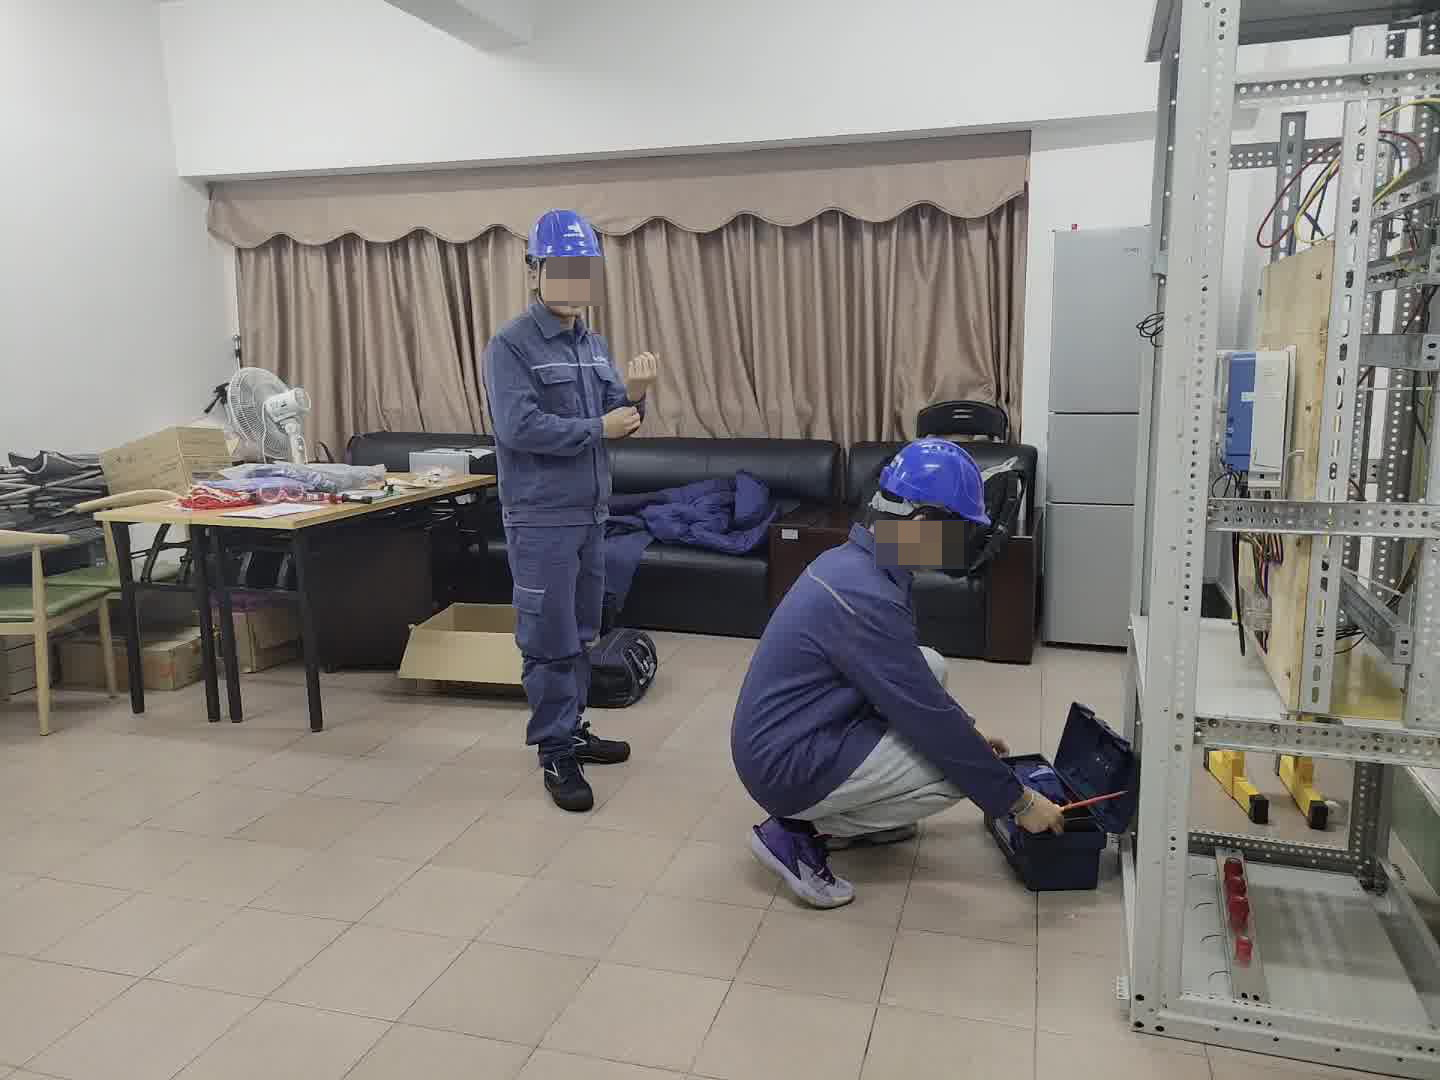downcloth: (780, 722, 978, 836)
downsuit: (505, 541, 625, 752)
halt: (875, 438, 993, 570), (522, 206, 613, 315)
hand: (1015, 780, 1067, 843), (622, 350, 664, 398), (593, 402, 641, 441)
inear: (524, 257, 552, 310)
noear: (897, 508, 929, 574)
person: (728, 421, 1100, 901), (475, 202, 647, 797)
upsuit: (733, 525, 1010, 826), (481, 303, 631, 521)
